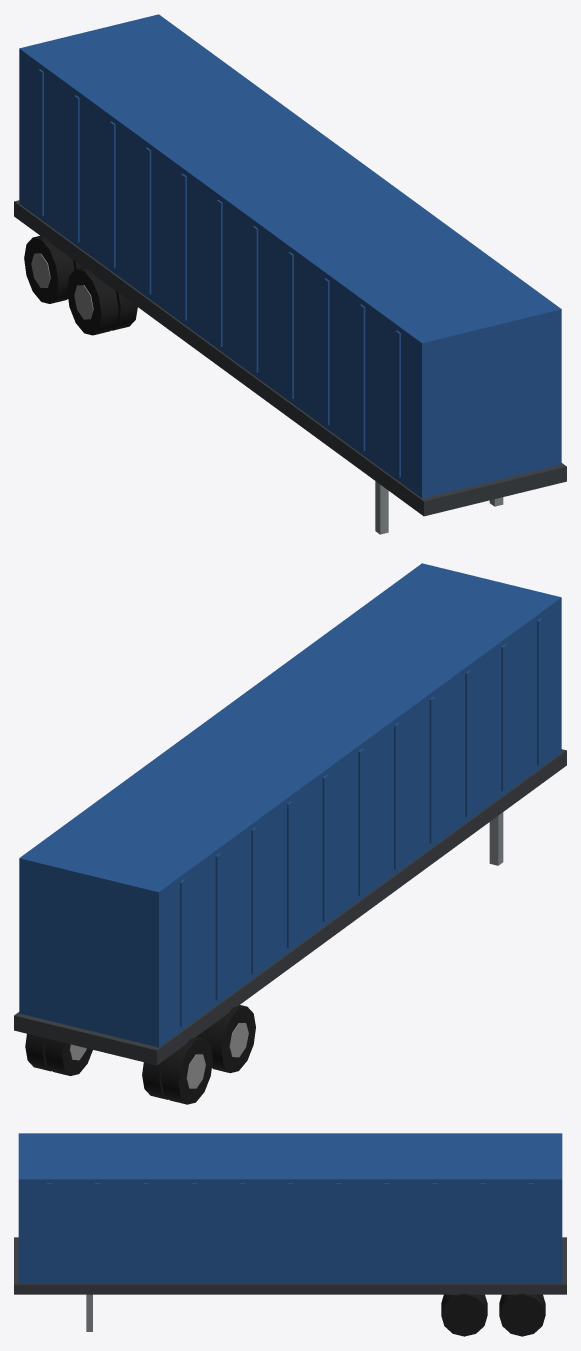
File: trailer_container_0.glb
3 renders of one model, top to bottom at view 1: azimuth 30°, elevation 25°; view 2: azimuth 150°, elevation 25°; view 3: azimuth 270°, elevation 25°, orthographic. The views are drawn at different scales.
Parts seen in each view (by area): view 1: trailer_container_0, wheel_1L, wheel_2L; view 2: trailer_container_0, wheel_2L, wheel_1L, wheel_2R; view 3: trailer_container_0, wheel_1R, wheel_2R.
Boxes of the visible parts, <box> form: trailer_container_0: <box>14,14,566,534</box>; wheel_1L: <box>67,267,137,335</box>; wheel_2L: <box>24,236,82,303</box>; trailer_container_0: <box>14,563,566,1065</box>; wheel_2L: <box>142,1036,212,1104</box>; wheel_1L: <box>197,1005,255,1073</box>; wheel_2R: <box>25,1033,92,1075</box>; trailer_container_0: <box>14,1133,566,1331</box>; wheel_1R: <box>441,1293,487,1336</box>; wheel_2R: <box>499,1293,545,1336</box>.
Size of the model in its own units: 2.69 by 3.84 by 12.4.
